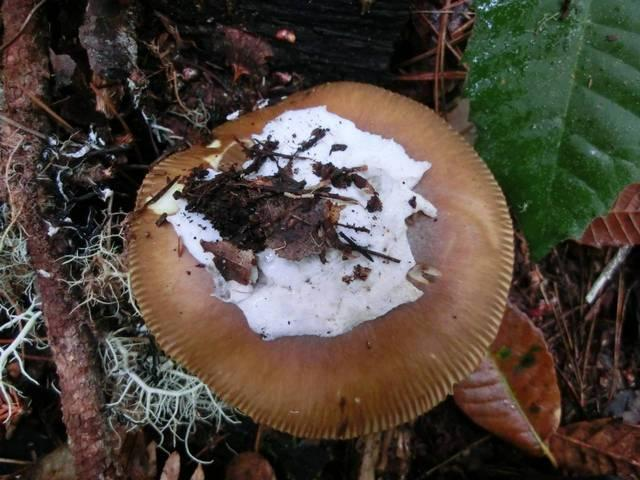Edible Mushroom: (122, 78, 516, 476)
